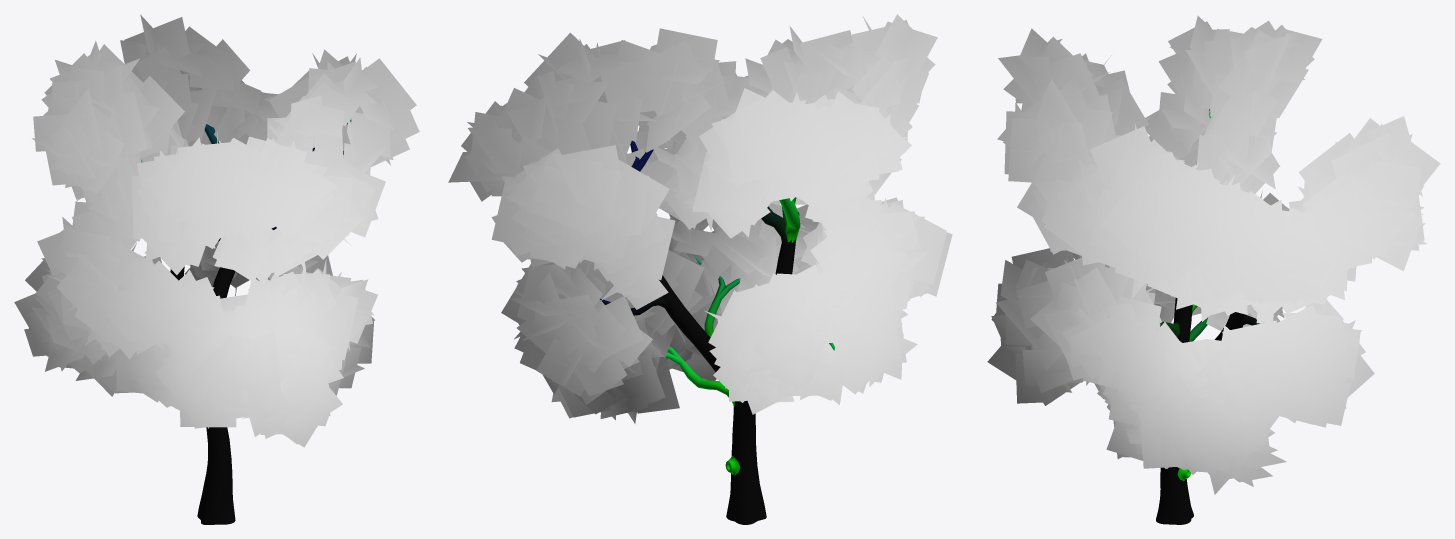
File: F1_Tree3.glb
3 views of the same model, side by side, from view 1: azimuth 30°, elevation 25°; view 2: azimuth 150°, elevation 25°; view 3: azimuth 270°, elevation 25° (orthographic). The views are drawn at different scales.
Parts seen in each view (by area): view 1: F1_L3, F1_Tree3; view 2: F1_L3, F1_Tree3; view 3: F1_L3, F1_Tree3.
Part boxes in pixels (x1=…): F1_L3: x1=14, y1=14, x2=419, y2=447; F1_Tree3: x1=140, y1=120, x2=351, y2=524; F1_L3: x1=448, y1=14, x2=952, y2=423; F1_Tree3: x1=600, y1=140, x2=835, y2=524; F1_L3: x1=987, y1=15, x2=1440, y2=494; F1_Tree3: x1=1156, y1=109, x2=1259, y2=524.
Size of the model in its own units: 9.81 by 10.71 by 9.61.
